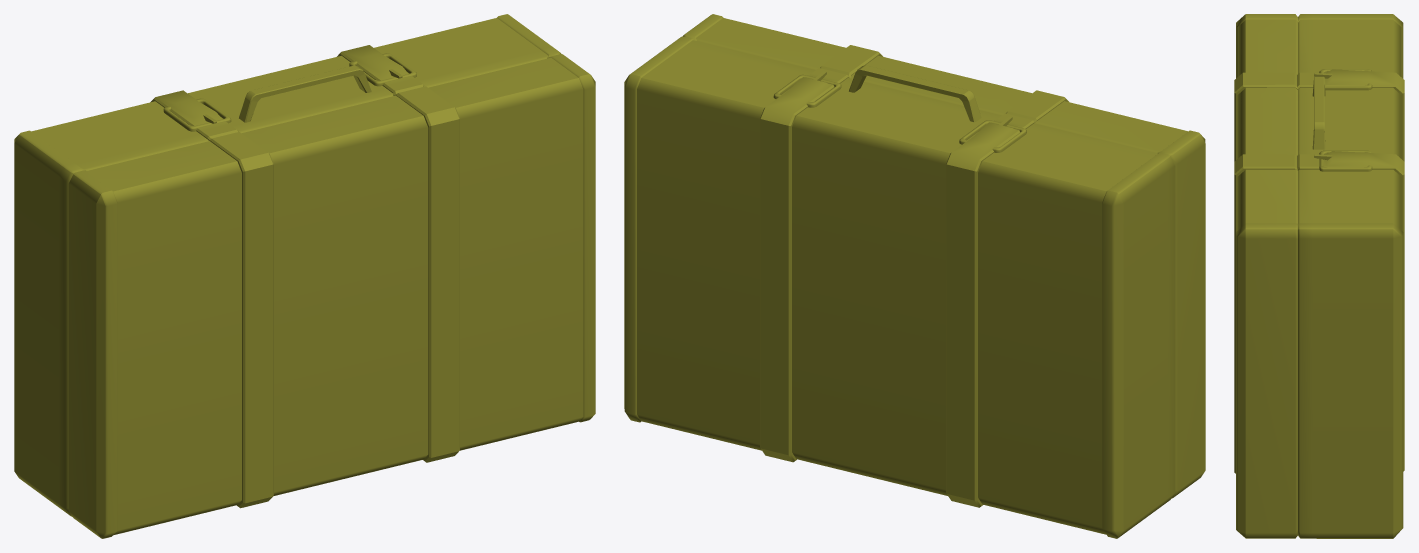
Rendered from luggage04.fbx.
3 views of the same model, side by side, from view 1: azimuth 30°, elevation 25°; view 2: azimuth 150°, elevation 25°; view 3: azimuth 270°, elevation 25° (orthographic). The views are drawn at different scales.
Visible parts, largest first — view 1: Luggag01; view 2: Luggag01; view 3: Luggag01.
Boxes of the visible parts, x1,y1,x2,y2 form: Luggag01: (14, 14, 595, 538); Luggag01: (624, 14, 1205, 538); Luggag01: (1234, 14, 1404, 538).
Bounding box in the file's own units: 59.46 × 42.21 × 19.52.
